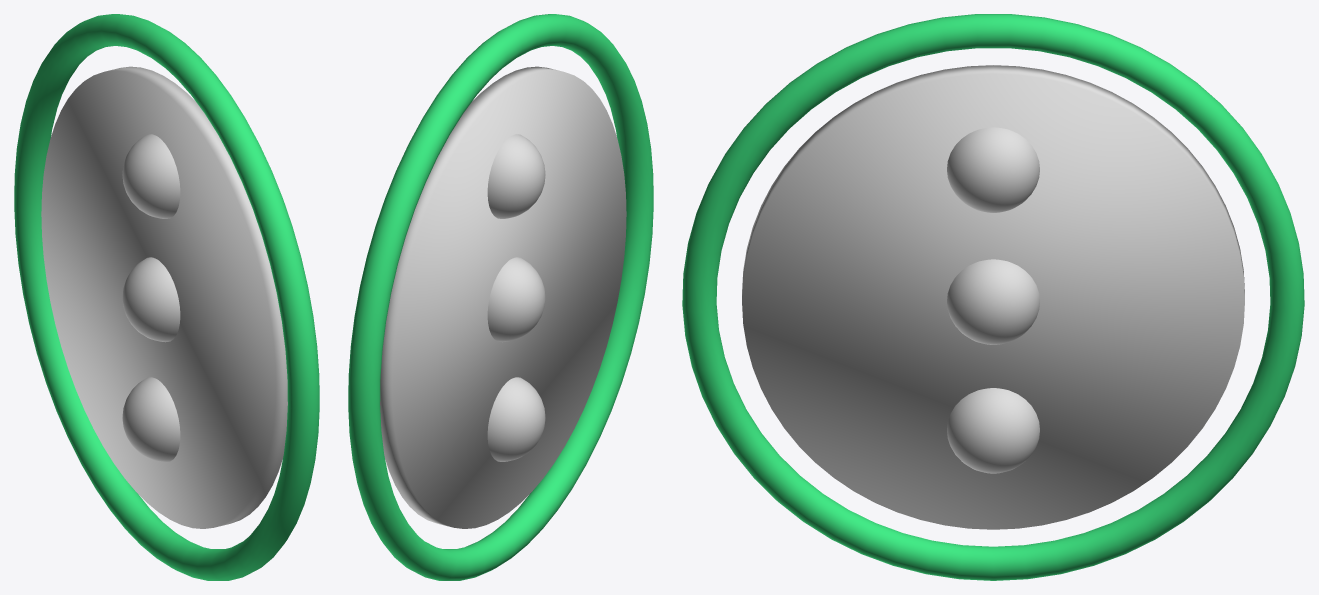
Rendered from ui-activator.glb.
3 views of the same model, side by side, from view 1: azimuth 30°, elevation 25°; view 2: azimuth 150°, elevation 25°; view 3: azimuth 270°, elevation 25° (orthographic). The views are drawn at different scales.
Visible parts, largest first — view 1: Torus.006; view 2: Torus.006; view 3: Torus.006.
Part boxes in pixels (x1,y1,x2,y2): Torus.006: (14,14,319,580); Torus.006: (348,14,653,580); Torus.006: (682,14,1304,580).
Size of the model in its own units: 0.0118 by 0.0767 by 0.0768.
